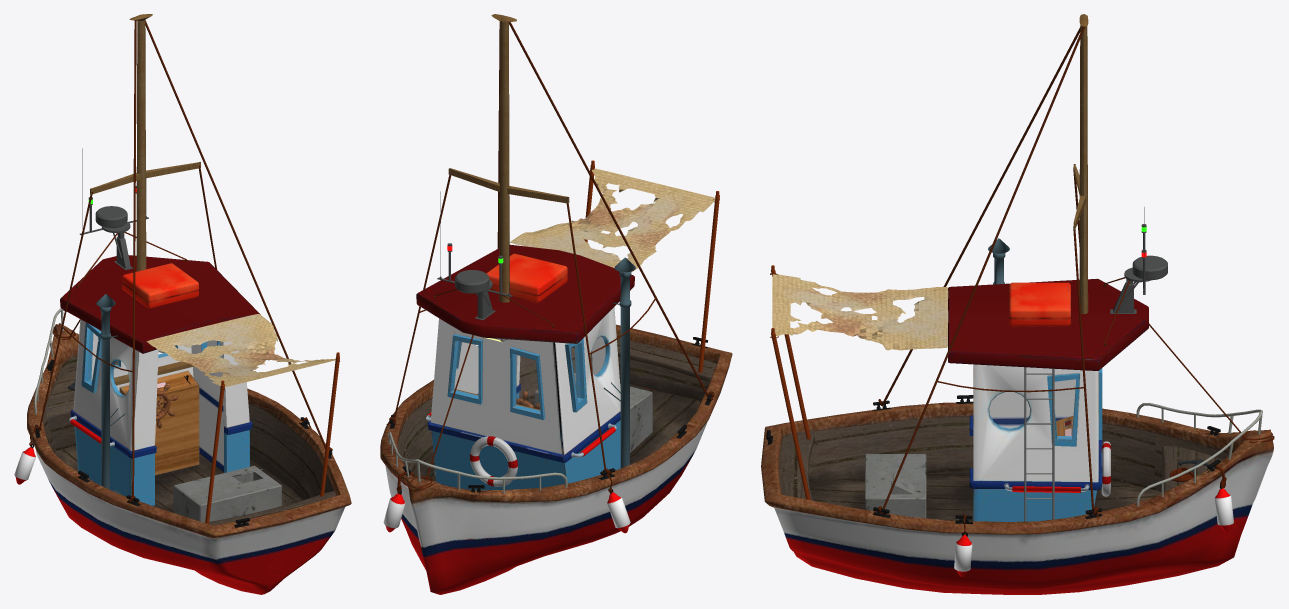
The model's file is boat.glb.
The picture shows the model from 3 angles, left to right: view 1: azimuth 30°, elevation 25°; view 2: azimuth 150°, elevation 25°; view 3: azimuth 270°, elevation 25°; orthographic projection. The views are drawn at different scales.
Visible parts, largest first — view 1: Material-CABINA, Material-BARCA-ESTERNO, Material-BARCA_INTERNO, Material-TENDA, Material-MOTORE, Material-CORDE-scure, Material-ALBERO-MAIN, Material-SALVAGENTE-TETTO, Material-PIPE, Material-ANTENNA, Material-TENDA-BASTONI, Material-BITTE (+3 smaller); view 2: Material-CABINA, Material-BARCA-ESTERNO, Material-BARCA_INTERNO, Material-TENDA, Material-CORDE-scure, Material-ALBERO-MAIN, Material-SALVAGENTE-TETTO, Material-PIPE, Material-ANTENNA, Material-MOTORE, Material-TENDA-BASTONI, Material-PARABORDI (+3 smaller); view 3: Material-BARCA-ESTERNO, Material-CABINA, Material-BARCA_INTERNO, Material-TENDA, Material-CORDE-scure, Material-MOTORE, Material-SALVAGENTE-TETTO, Material-ALBERO-MAIN, Material-ANTENNA, Material-TENDA-BASTONI, Material-RINGHIERA, Material-PARABORDI (+2 smaller).
Part boxes in pixels (bbox=[...]): Material-CABINA: bbox=[60, 255, 260, 506]; Material-BARCA-ESTERNO: bbox=[27, 323, 351, 594]; Material-BARCA_INTERNO: bbox=[43, 357, 336, 525]; Material-TENDA: bbox=[147, 314, 335, 386]; Material-MOTORE: bbox=[173, 465, 281, 522]; Material-CORDE-scure: bbox=[29, 20, 332, 502]; Material-ALBERO-MAIN: bbox=[90, 14, 200, 385]; Material-SALVAGENTE-TETTO: bbox=[122, 263, 198, 308]; Material-PIPE: bbox=[96, 294, 125, 494]; Material-ANTENNA: bbox=[80, 148, 148, 270]; Material-TENDA-BASTONI: bbox=[205, 352, 339, 523]; Material-BITTE: bbox=[30, 359, 332, 527]; Material-CABINA: bbox=[416, 244, 634, 490]; Material-BARCA-ESTERNO: bbox=[380, 324, 732, 594]; Material-BARCA_INTERNO: bbox=[397, 338, 716, 481]; Material-TENDA: bbox=[509, 168, 715, 272]; Material-CORDE-scure: bbox=[386, 21, 714, 493]; Material-ALBERO-MAIN: bbox=[448, 14, 569, 410]; Material-SALVAGENTE-TETTO: bbox=[486, 253, 567, 302]; Material-PIPE: bbox=[603, 257, 635, 468]; Material-ANTENNA: bbox=[437, 191, 512, 320]; Material-MOTORE: bbox=[534, 373, 652, 452]; Material-TENDA-BASTONI: bbox=[584, 160, 719, 372]; Material-PARABORDI: bbox=[383, 492, 630, 533]; Material-BARCA-ESTERNO: bbox=[761, 402, 1273, 594]; Material-CABINA: bbox=[948, 278, 1148, 521]; Material-BARCA_INTERNO: bbox=[779, 416, 1229, 520]; Material-TENDA: bbox=[772, 274, 948, 350]; Material-CORDE-scure: bbox=[878, 26, 1274, 534]; Material-MOTORE: bbox=[865, 454, 926, 518]; Material-SALVAGENTE-TETTO: bbox=[1009, 282, 1070, 326]; Material-ALBERO-MAIN: bbox=[1073, 14, 1088, 314]; Material-ANTENNA: bbox=[1110, 207, 1167, 313]; Material-TENDA-BASTONI: bbox=[771, 265, 810, 499]; Material-RINGHIERA: bbox=[1136, 402, 1262, 506]; Material-PARABORDI: bbox=[954, 488, 1233, 576].
Bounding box in the file's own units: 4.27 × 8.55 × 6.93.
Materials: 28 (9 with a texture image).
